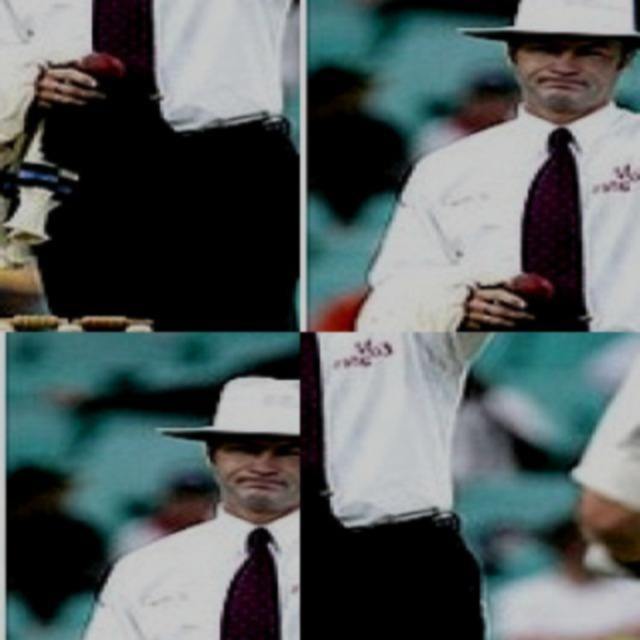Out: (300, 332, 524, 640)
Wide: (300, 0, 640, 252), (0, 481, 300, 640)
